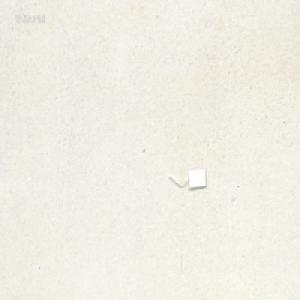LuggageTag: (166, 166, 206, 189)
